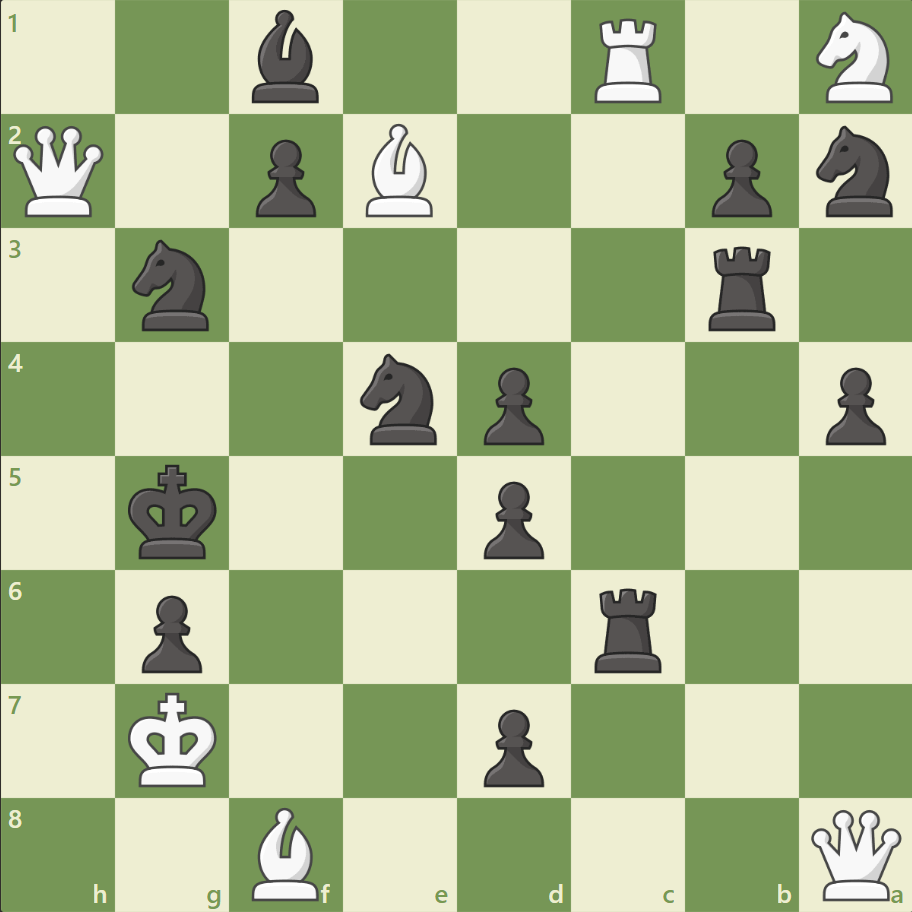B: (244, 801, 328, 904), (358, 120, 442, 222)
K: (124, 685, 224, 793)
N: (806, 7, 903, 110)
Q: (10, 122, 109, 222), (805, 804, 904, 903)
R: (587, 12, 670, 109)
b: (244, 6, 328, 109)
k: (124, 458, 224, 566)
n: (124, 234, 222, 337), (351, 348, 449, 450), (806, 121, 903, 223)
p: (474, 700, 549, 791), (133, 586, 208, 677), (474, 473, 549, 564), (474, 359, 549, 450), (701, 132, 776, 223), (247, 132, 322, 223), (815, 359, 889, 450)
r: (587, 579, 670, 676), (700, 239, 783, 336)
